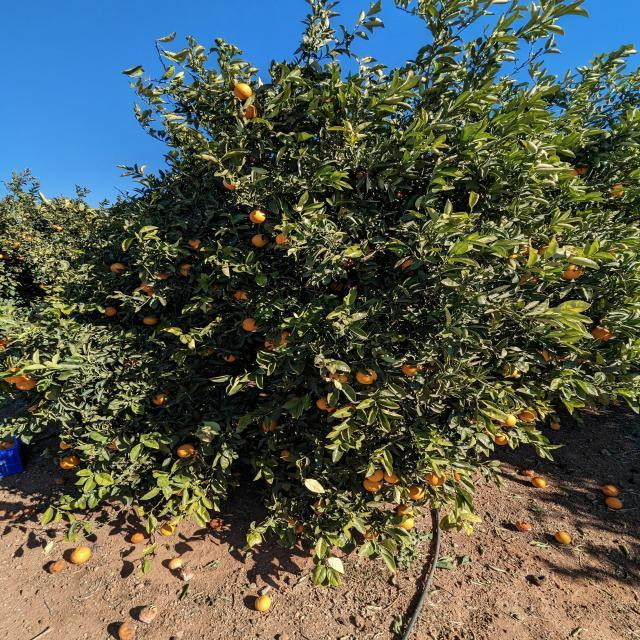Jeruk Sudah Matang: (68, 548, 91, 566), (232, 81, 254, 99), (3, 368, 26, 383), (118, 625, 140, 640), (242, 102, 261, 119), (357, 371, 378, 385), (563, 265, 584, 279), (254, 596, 272, 612), (273, 233, 290, 249), (566, 166, 585, 180), (594, 329, 614, 342), (274, 335, 292, 349), (264, 339, 283, 352), (606, 497, 626, 509), (613, 182, 628, 198), (223, 178, 240, 192), (260, 420, 278, 433), (251, 209, 266, 224), (242, 318, 258, 332), (368, 468, 384, 482), (364, 478, 382, 490), (500, 414, 518, 426), (494, 433, 510, 446), (60, 456, 77, 468), (180, 444, 194, 458), (400, 516, 414, 530), (134, 530, 148, 544), (252, 234, 268, 246), (427, 472, 443, 484), (521, 410, 535, 423), (533, 476, 547, 489), (234, 288, 249, 300), (404, 366, 419, 378), (316, 398, 328, 412), (336, 374, 350, 386), (389, 473, 402, 485), (108, 438, 120, 451), (156, 392, 168, 404), (142, 281, 154, 293), (411, 487, 424, 498), (144, 318, 158, 328), (110, 262, 123, 272), (190, 239, 203, 249), (400, 258, 413, 268), (156, 270, 170, 279), (104, 305, 116, 315), (542, 352, 554, 362), (60, 440, 72, 450), (224, 355, 237, 364), (606, 484, 620, 492), (182, 264, 192, 274), (203, 348, 214, 357), (280, 451, 290, 458), (22, 217, 29, 222), (4, 241, 11, 245), (18, 256, 25, 260), (14, 242, 20, 246), (40, 284, 44, 289), (0, 254, 4, 259), (4, 254, 9, 258), (56, 227, 62, 230), (26, 237, 32, 240), (15, 270, 22, 272), (22, 232, 26, 235)
